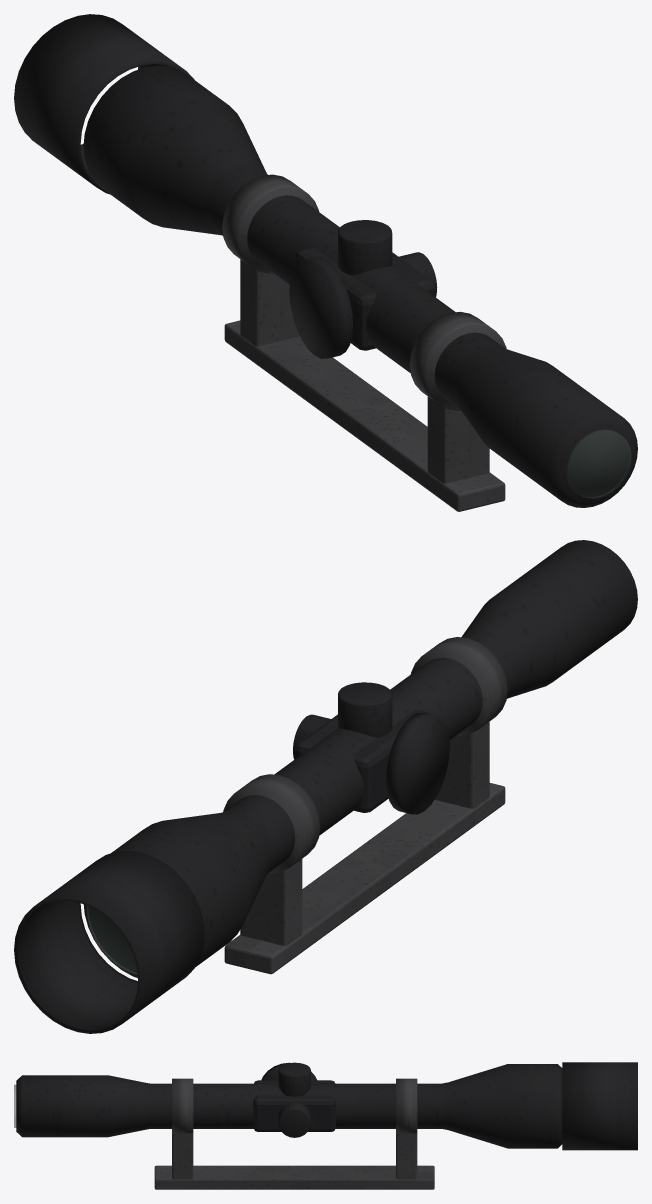
File: scope_8x.glb
3 renders of one model, top to bottom at view 1: azimuth 30°, elevation 25°; view 2: azimuth 150°, elevation 25°; view 3: azimuth 270°, elevation 25°, orthographic. The views are drawn at different scales.
Visible parts, largest first — view 1: tube, shade, base, wheel, riser0, riser1, lens_r, ring1, ring0, turret_t, saddle; view 2: tube, shade, base, wheel, riser1, riser0, ring0, ring1, saddle, turret_t, lens_f; view 3: tube, shade, base, saddle, ring0, ring1, riser0, riser1, turret_t, turret_s, wheel.
Boxes of the visible parts, x1,y1,x2,y2 form: tube: [83, 65, 637, 507]; shade: [14, 14, 194, 194]; base: [224, 320, 505, 511]; wheel: [289, 257, 353, 358]; riser0: [427, 396, 489, 483]; riser1: [240, 259, 299, 346]; lens_r: [566, 430, 631, 498]; ring1: [222, 174, 319, 273]; ring0: [409, 311, 506, 410]; turret_t: [338, 220, 392, 275]; saddle: [295, 247, 434, 350]; tube: [83, 540, 637, 977]; shade: [14, 850, 204, 1033]; base: [224, 783, 505, 974]; wheel: [386, 713, 449, 814]; riser1: [240, 859, 302, 945]; riser0: [434, 722, 489, 808]; ring0: [411, 637, 507, 736]; ring1: [223, 774, 320, 873]; saddle: [295, 710, 432, 812]; turret_t: [338, 682, 392, 737]; lens_f: [86, 905, 137, 974]; tube: [16, 1064, 562, 1148]; shade: [562, 1062, 637, 1150]; base: [154, 1165, 434, 1189]; saddle: [253, 1080, 335, 1131]; ring0: [172, 1078, 193, 1133]; ring1: [396, 1078, 417, 1133]; riser0: [172, 1133, 193, 1179]; riser1: [396, 1133, 417, 1179]; turret_t: [278, 1062, 310, 1096]; turret_s: [278, 1102, 310, 1137]; wheel: [261, 1062, 316, 1080].
Size of the model in its own units: 0.058 by 0.085 by 0.4115.
Materials: 3 (2 with a texture image).
